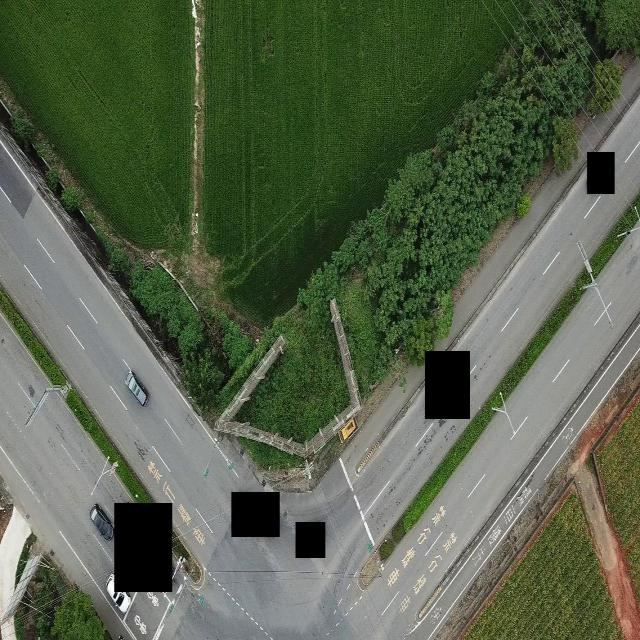car: (106, 573, 130, 615), (90, 503, 114, 541), (125, 370, 148, 407)
